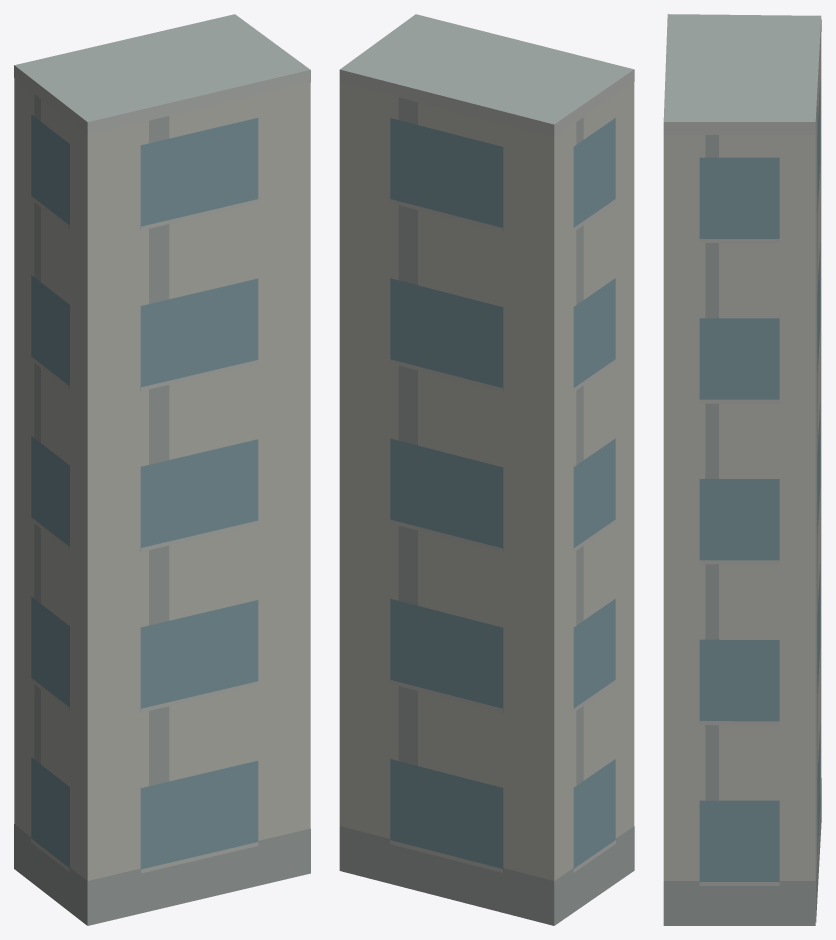
The model's file is survey-upis-32838138.glb.
3 views of the same model, side by side, from view 1: azimuth 30°, elevation 25°; view 2: azimuth 150°, elevation 25°; view 3: azimuth 270°, elevation 25° (orthographic).
Parts seen in each view (by area): view 1: survey-upis-32838138.tmp; view 2: survey-upis-32838138.tmp; view 3: survey-upis-32838138.tmp.
Boxes of the visible parts, <box> form: survey-upis-32838138.tmp: <box>14,14,310,925</box>; survey-upis-32838138.tmp: <box>339,14,634,925</box>; survey-upis-32838138.tmp: <box>663,14,821,925</box>.
Bounding box in the file's own units: 4.41 × 15.25 × 2.72.
